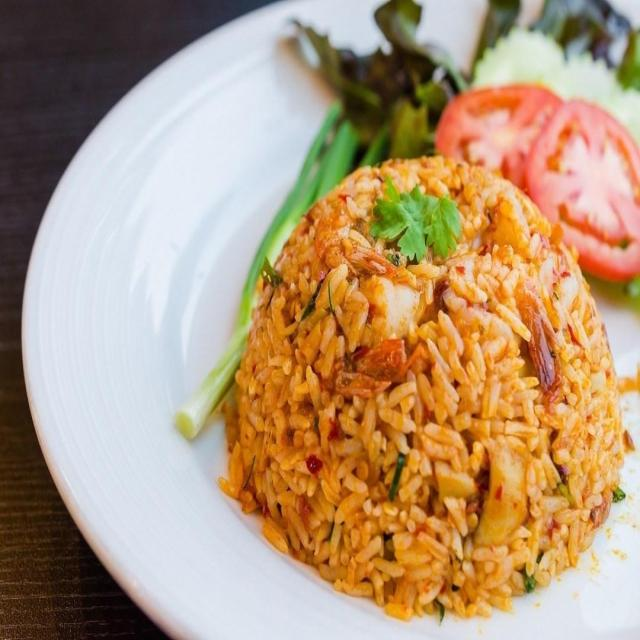Nasi Goreng: (218, 152, 624, 623)
